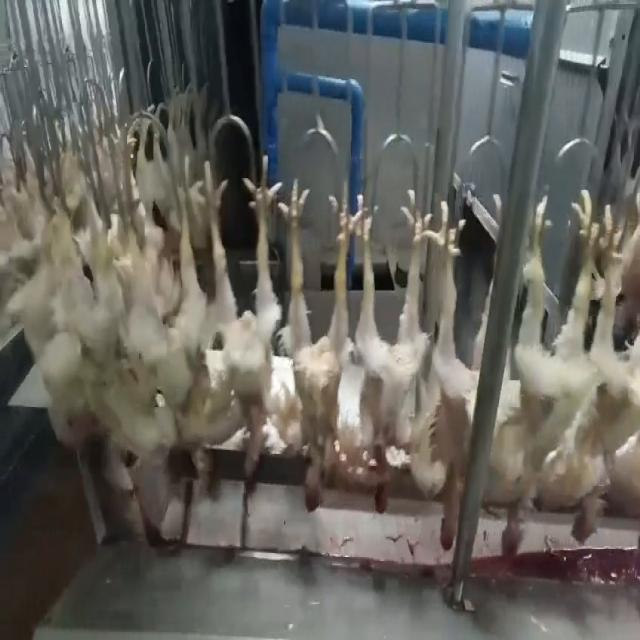chicken: (489, 189, 587, 562), (340, 184, 432, 512), (422, 189, 503, 555), (568, 195, 639, 544), (205, 155, 279, 489), (278, 184, 350, 514), (148, 156, 203, 488), (109, 162, 154, 458)
